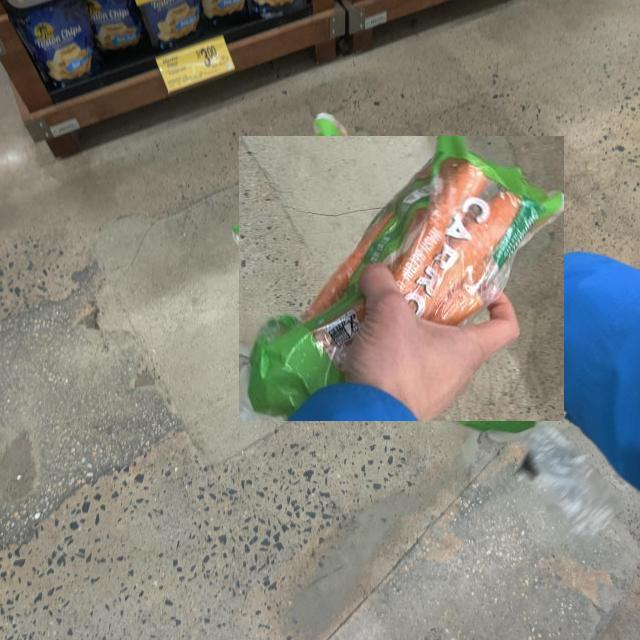Carrots: (238, 136, 564, 421)
